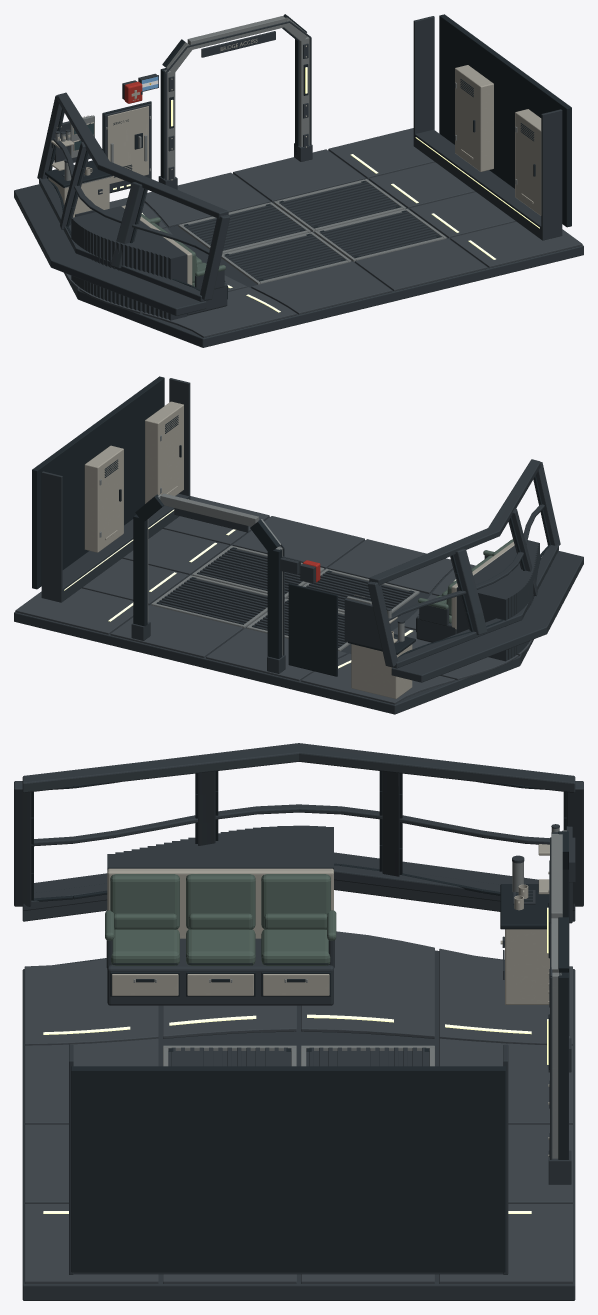
The model's file is cruz-del-sur-cabin-arrival.glb.
The picture shows the model from 3 angles, top to bottom: view 1: azimuth 30°, elevation 25°; view 2: azimuth 150°, elevation 25°; view 3: azimuth 270°, elevation 25°; orthographic projection. The views are drawn at different scales.
Visible parts, largest first — view 1: REFINED_arrival_static_ARRIVAL V4 Graphite frame, REFINED_arrival_static_CDS DETAIL_Graphite deck - restrained, REFINED_arrival_static_ARRIVAL V4 Gaskets, REFINED_arrival_static_ARRIVAL V4 Ivory cabinets, REFINED_arrival_static_ARRIVAL V4 Warm grey panels, REFINED_arrival_static_ARRIVAL V4 Amber lamps, REFINED_arrival_static_CABIN_Sage woven upholstery; view 2: REFINED_arrival_static_ARRIVAL V4 Graphite frame, REFINED_arrival_static_CDS DETAIL_Graphite deck - restrained, REFINED_arrival_static_ARRIVAL V4 Gaskets, REFINED_arrival_static_ARRIVAL V4 Ivory cabinets, REFINED_arrival_static_ARRIVAL V4 Warm grey panels, REFINED_arrival_static_CABIN_Sage woven upholstery, REFINED_arrival_static_ARRIVAL V4 Amber lamps; view 3: REFINED_arrival_static_ARRIVAL V4 Gaskets, REFINED_arrival_static_ARRIVAL V4 Graphite frame, REFINED_arrival_static_CDS DETAIL_Graphite deck - restrained, REFINED_arrival_static_CABIN_Sage woven upholstery, REFINED_arrival_static_ARRIVAL V4 Ivory cabinets, REFINED_arrival_static_ARRIVAL V4 Warm grey panels, REFINED_arrival_static_ARRIVAL V4 Amber lamps.
Part boxes in pixels (<box>): REFINED_arrival_static_ARRIVAL V4 Graphite frame: <box>14,16,583,347</box>; REFINED_arrival_static_CDS DETAIL_Graphite deck - restrained: <box>65,128,582,337</box>; REFINED_arrival_static_ARRIVAL V4 Gaskets: <box>45,14,571,299</box>; REFINED_arrival_static_ARRIVAL V4 Ivory cabinets: <box>48,45,541,285</box>; REFINED_arrival_static_ARRIVAL V4 Warm grey panels: <box>55,16,517,284</box>; REFINED_arrival_static_ARRIVAL V4 Amber lamps: <box>113,67,539,312</box>; REFINED_arrival_static_CABIN_Sage woven upholstery: <box>141,214,225,286</box>; REFINED_arrival_static_ARRIVAL V4 Graphite frame: <box>14,378,583,714</box>; REFINED_arrival_static_CDS DETAIL_Graphite deck - restrained: <box>15,496,532,704</box>; REFINED_arrival_static_ARRIVAL V4 Gaskets: <box>32,376,550,676</box>; REFINED_arrival_static_ARRIVAL V4 Ivory cabinets: <box>84,401,514,698</box>; REFINED_arrival_static_ARRIVAL V4 Warm grey panels: <box>99,435,419,655</box>; REFINED_arrival_static_CABIN_Sage woven upholstery: <box>418,539,513,623</box>; REFINED_arrival_static_ARRIVAL V4 Amber lamps: <box>64,509,456,668</box>; REFINED_arrival_static_ARRIVAL V4 Gaskets: <box>31,771,569,1272</box>; REFINED_arrival_static_ARRIVAL V4 Graphite frame: <box>14,743,583,1300</box>; REFINED_arrival_static_CDS DETAIL_Graphite deck - restrained: <box>24,931,572,1283</box>; REFINED_arrival_static_CABIN_Sage woven upholstery: <box>105,874,336,965</box>; REFINED_arrival_static_ARRIVAL V4 Ivory cabinets: <box>107,832,551,1156</box>; REFINED_arrival_static_ARRIVAL V4 Warm grey panels: <box>133,828,566,1158</box>; REFINED_arrival_static_ARRIVAL V4 Amber lamps: <box>43,907,548,1213</box>.
Size of the model in its own units: 10.01 by 3.34 by 6.39.
17 materials, 4 textured.
